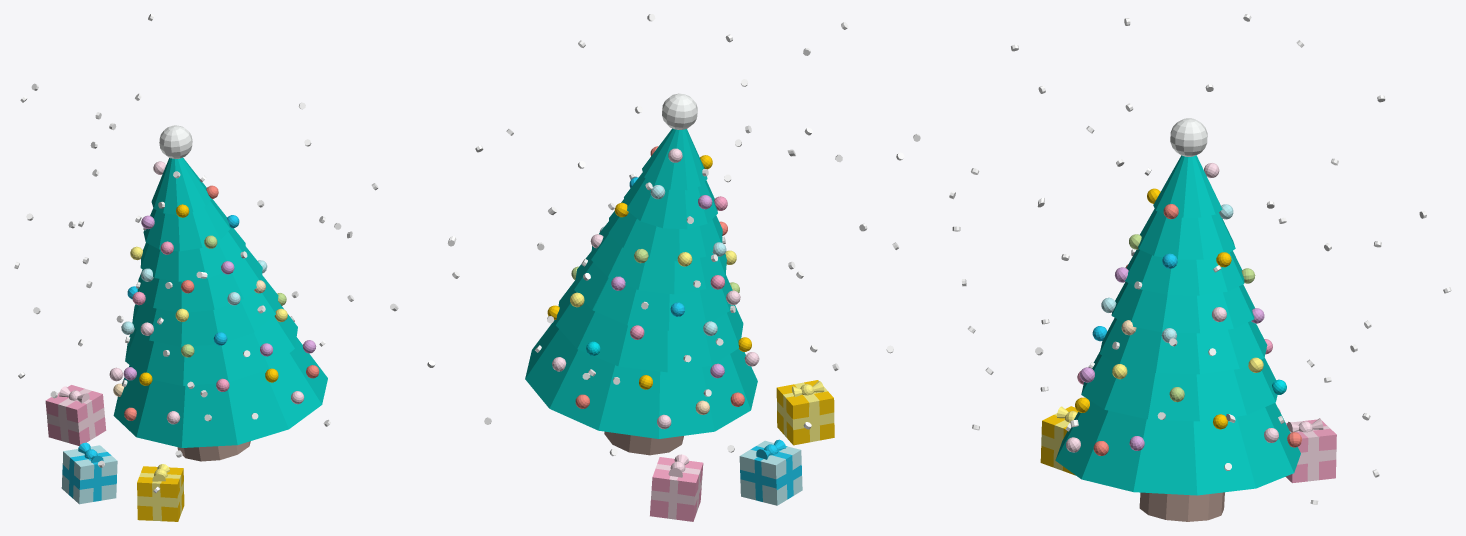
Rendered from bor.glb.
3 renders of one model, left to right at view 1: azimuth 30°, elevation 25°; view 2: azimuth 150°, elevation 25°; view 3: azimuth 270°, elevation 25°, orthographic. The views are drawn at different scales.
Visible parts, largest first — view 1: group1997183750, group1938904410, group2141143376, group992683337, group841179769, group2102604341, group731742636, group1858230936, group1460167062, group1540760986, group1331861772, group1313087675 (+1 smaller); view 2: group1997183750, group1938904410, group1540760986, group2141143376, group992683337, group731742636, group841179769, group1460167062, group2102604341, group1331861772, group1670351995, group1313087675 (+1 smaller); view 3: group1997183750, group1938904410, group1858230936, group2141143376, group992683337, group841179769, group1331861772, group1670351995, group2102604341, group1313087675, group1460167062.
Boxes of the visible parts, <box> form: group1997183750: <box>113,337,327,447</box>; group1938904410: <box>125,301,297,385</box>; group2141143376: <box>137,246,262,312</box>; group992683337: <box>140,227,245,281</box>; group841179769: <box>143,199,230,251</box>; group2102604341: <box>45,385,106,445</box>; group731742636: <box>61,445,117,504</box>; group1858230936: <box>193,275,278,341</box>; group1460167062: <box>137,466,184,521</box>; group1540760986: <box>132,302,216,347</box>; group1331861772: <box>151,157,211,214</box>; group1313087675: <box>159,125,192,158</box>; group1997183750: <box>525,320,757,438</box>; group1938904410: <box>555,280,743,372</box>; group1540760986: <box>574,274,732,330</box>; group2141143376: <box>591,221,726,294</box>; group992683337: <box>608,199,722,261</box>; group731742636: <box>739,440,802,505</box>; group841179769: <box>624,172,717,229</box>; group1460167062: <box>776,380,834,445</box>; group2102604341: <box>650,457,703,521</box>; group1331861772: <box>642,128,707,190</box>; group1670351995: <box>604,431,683,455</box>; group1313087675: <box>662,93,697,129</box>; group1997183750: <box>1055,400,1300,495</box>; group1938904410: <box>1081,352,1277,421</box>; group1858230936: <box>1099,318,1263,374</box>; group2141143376: <box>1111,282,1254,333</box>; group992683337: <box>1125,249,1244,295</box>; group841179769: <box>1138,209,1235,259</box>; group1331861772: <box>1153,155,1222,217</box>; group1670351995: <box>1139,492,1224,521</box>; group2102604341: <box>1285,419,1336,483</box>; group1313087675: <box>1170,118,1207,156</box>; group1460167062: <box>1040,406,1077,475</box>.
Size of the model in its own units: 0.6216 by 0.712 by 0.6465.
